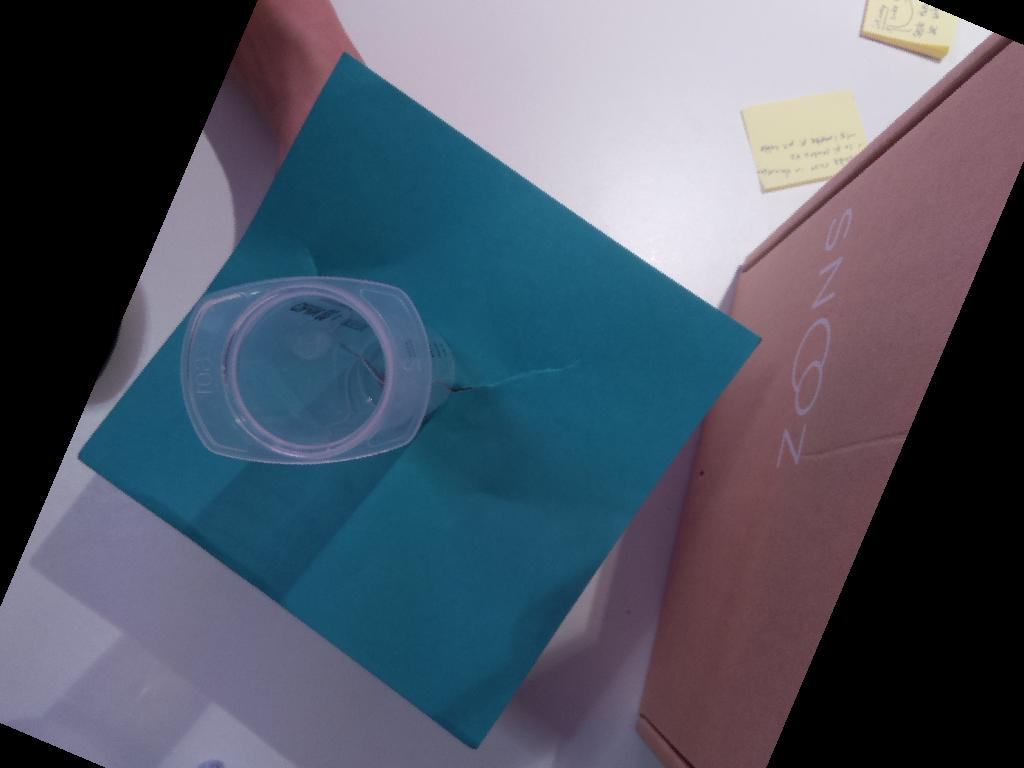clean: (176, 273, 430, 462)
